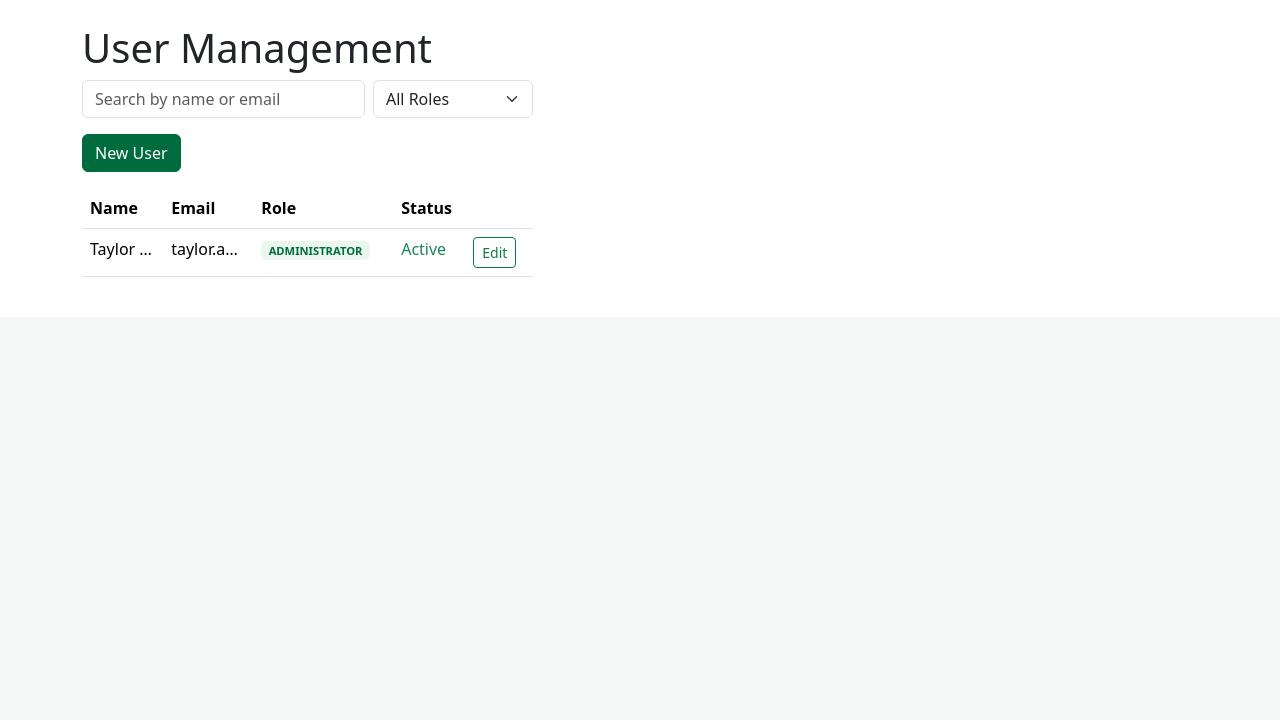
Test: UserManagement - create form validation (UI-06) › shows a success message after creating a user, and it stays visible once the panel closes
Click the button "New User": [131, 153] box [82,134,181,172]
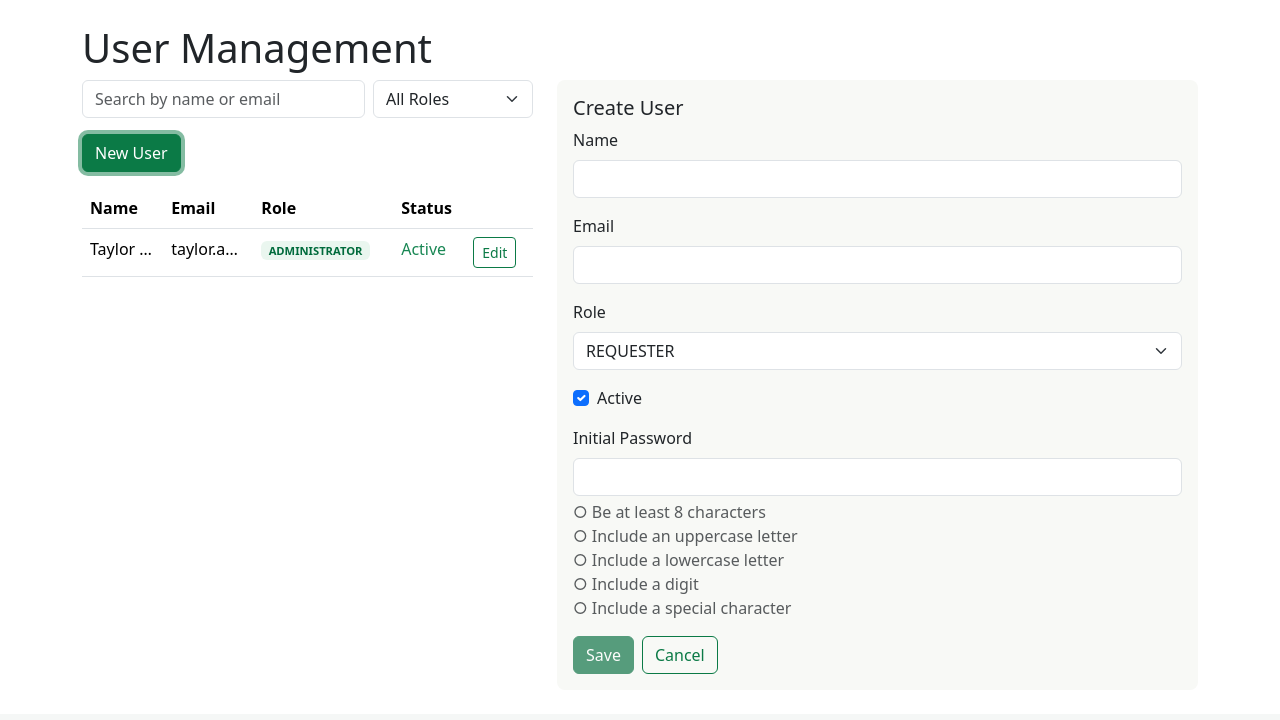
In the field labelled "Name": [878, 179] box [573,160,1182,198], type "New Person"
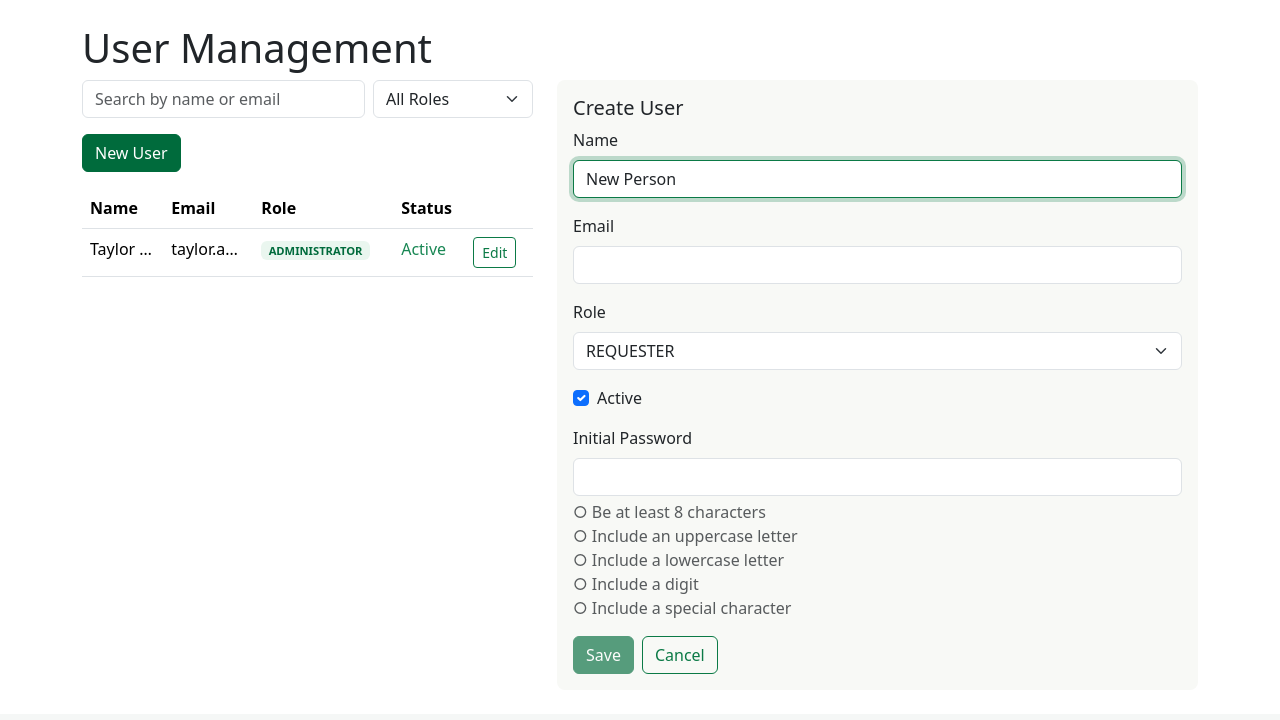
In the field labelled "Email": [878, 265] box [573,246,1182,284], type "new.person@example.com"
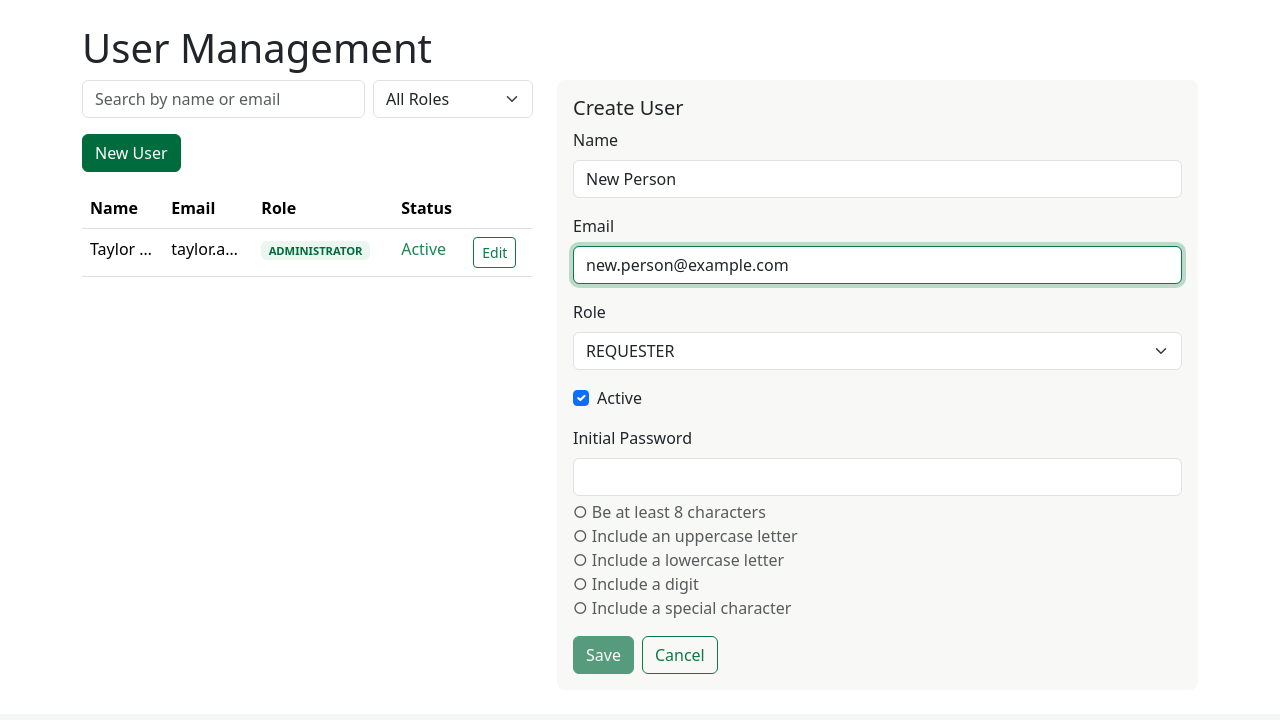
In the password field labelled "Initial Password": [878, 477] box [573,458,1182,496], type "BrandNewPass9!"
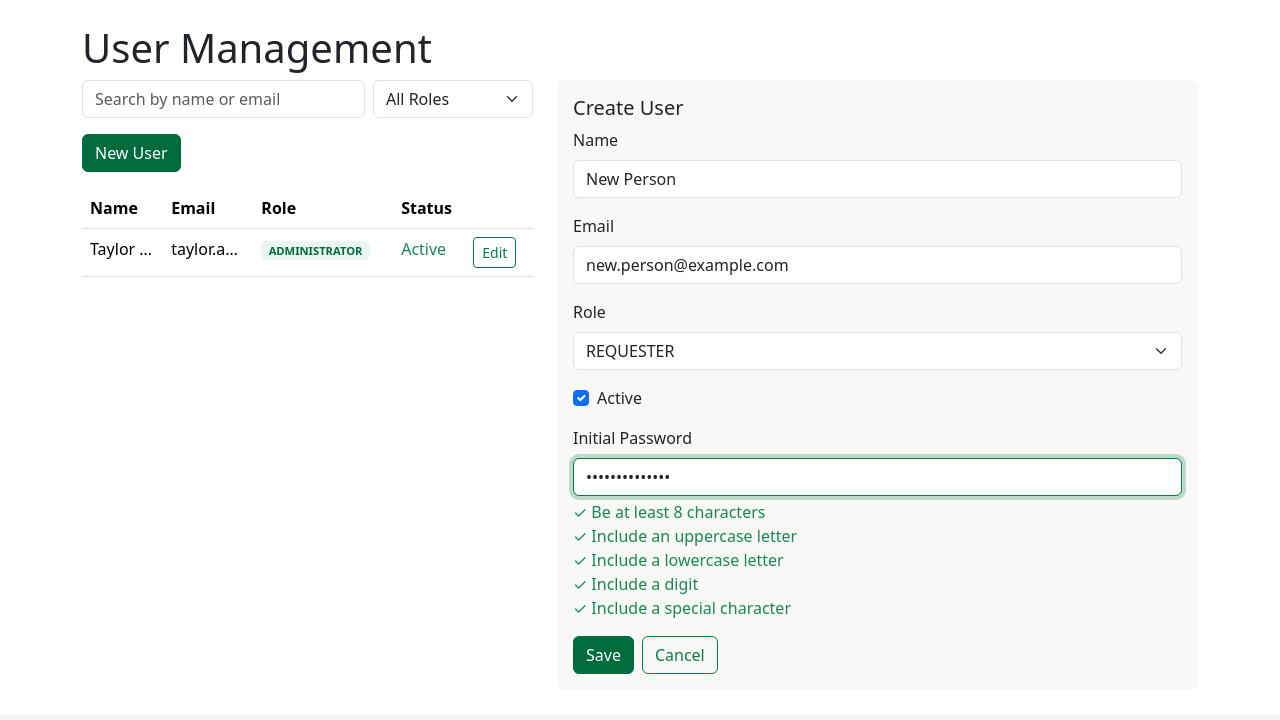
Click the button "Save": [603, 655] box [573,636,634,674]
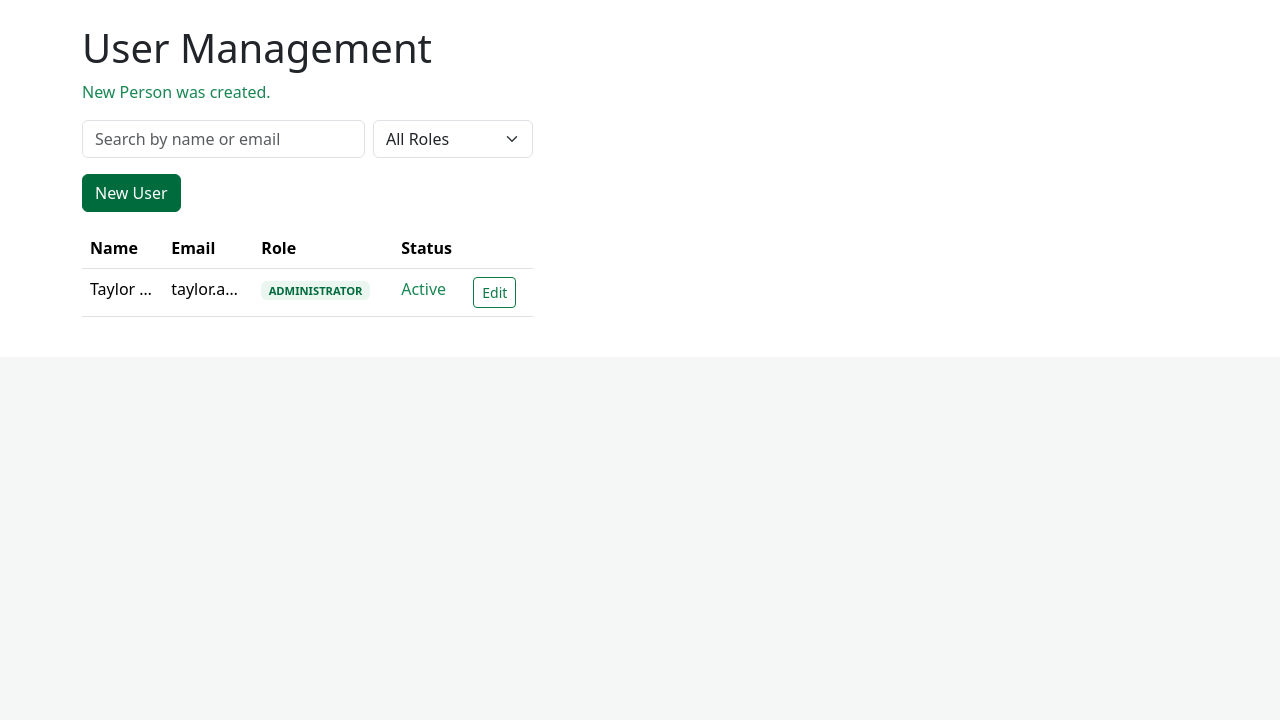
Result: the text "New Person was created." is shown at [82,81,271,103]
Result: the button "Save" is gone
